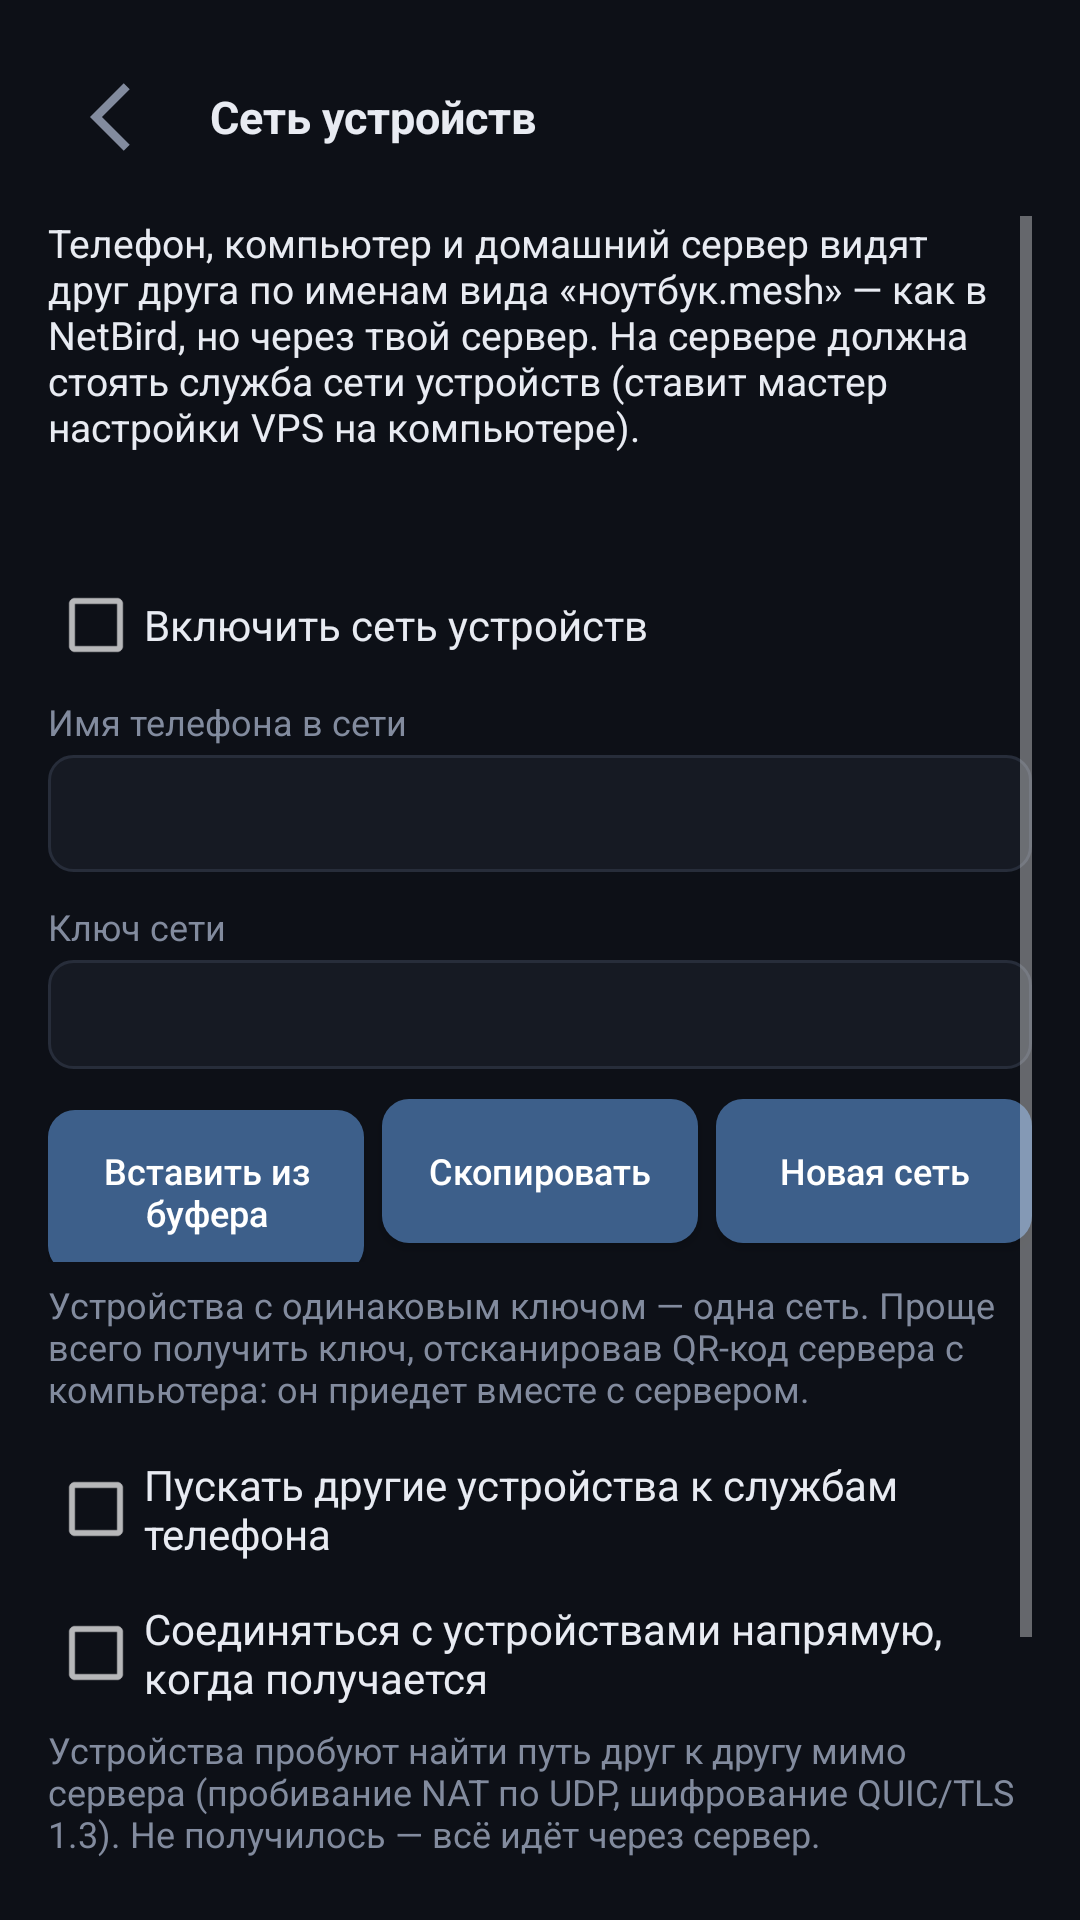

Where icons sit on this 1080px x 1920px app screen, as bbox=[x1, y1, x2, y2]:
Назад: bbox=[90, 83, 130, 151]
